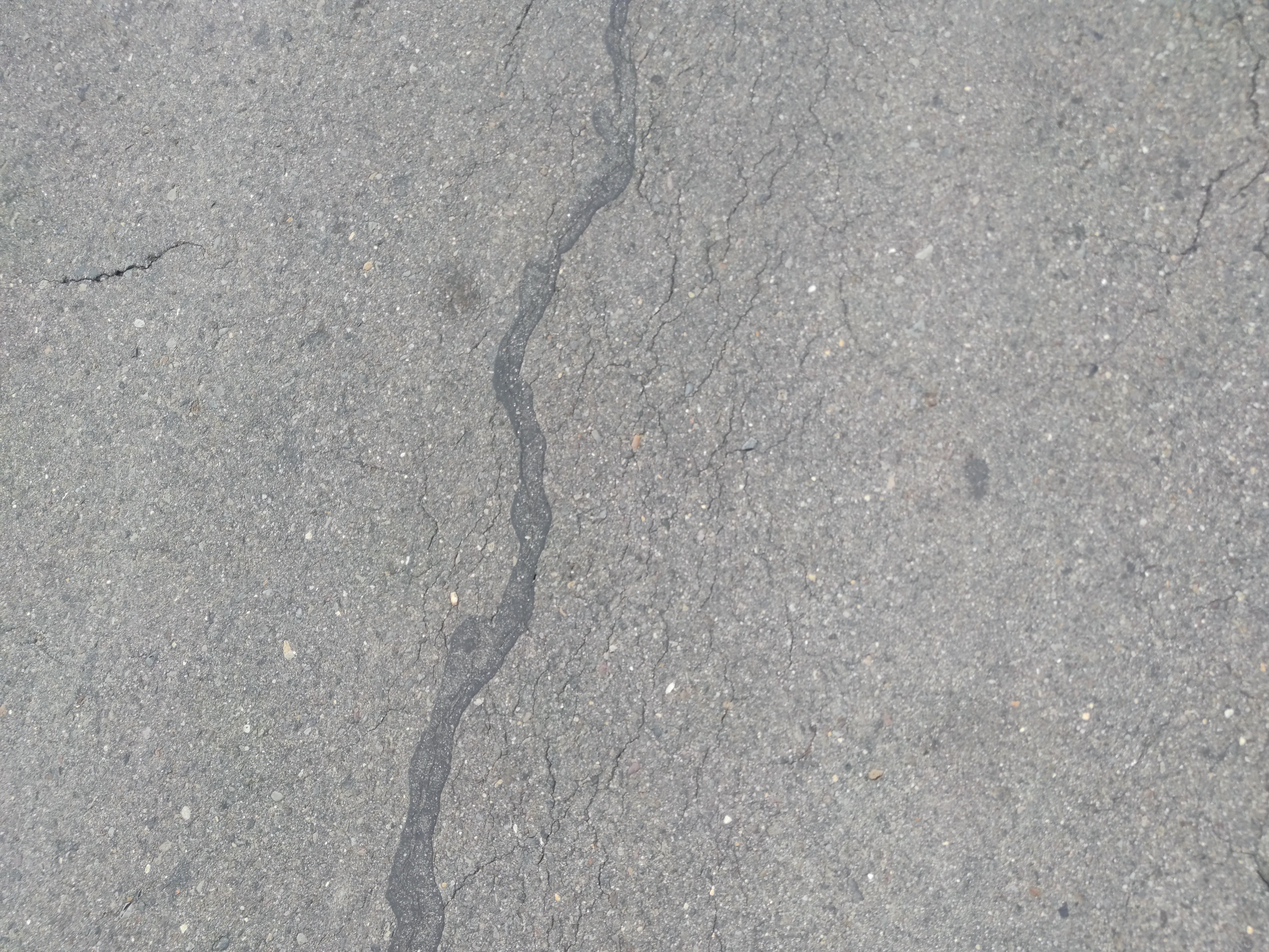GRIETA: (1182, 149, 1268, 256), (45, 242, 206, 283), (1236, 12, 1268, 130), (1093, 233, 1179, 257), (1229, 160, 1269, 200), (1164, 260, 1183, 296)
PARCHE: (387, 0, 634, 952)
PIEL DE COCODRILO: (364, 1, 907, 944)
